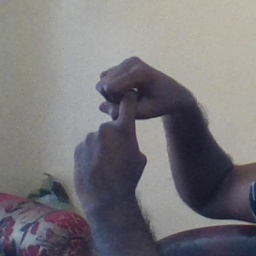Q: (72, 55, 170, 192)
